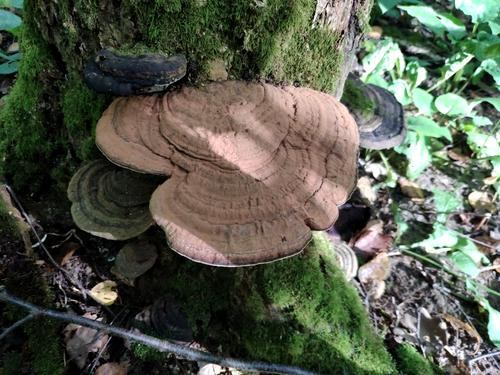Ganoderma - Fruit Body: (68, 95, 358, 267), (79, 42, 185, 88), (362, 77, 408, 149)
